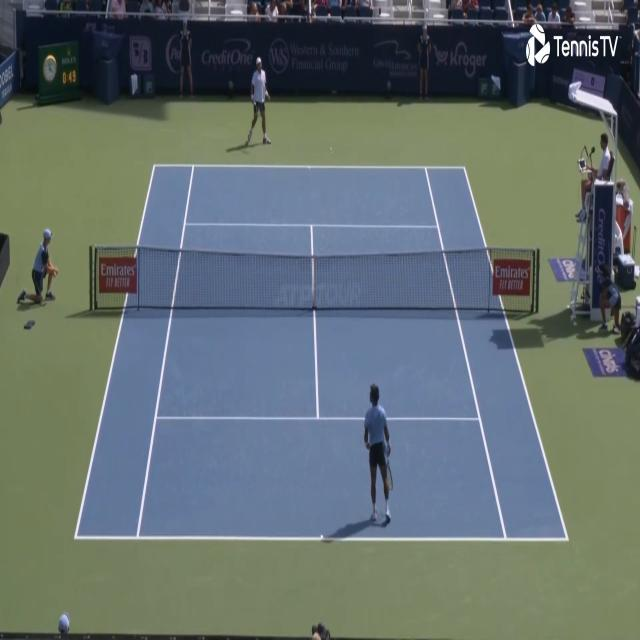tennis-player: (361, 381, 394, 528), (245, 52, 273, 148)
